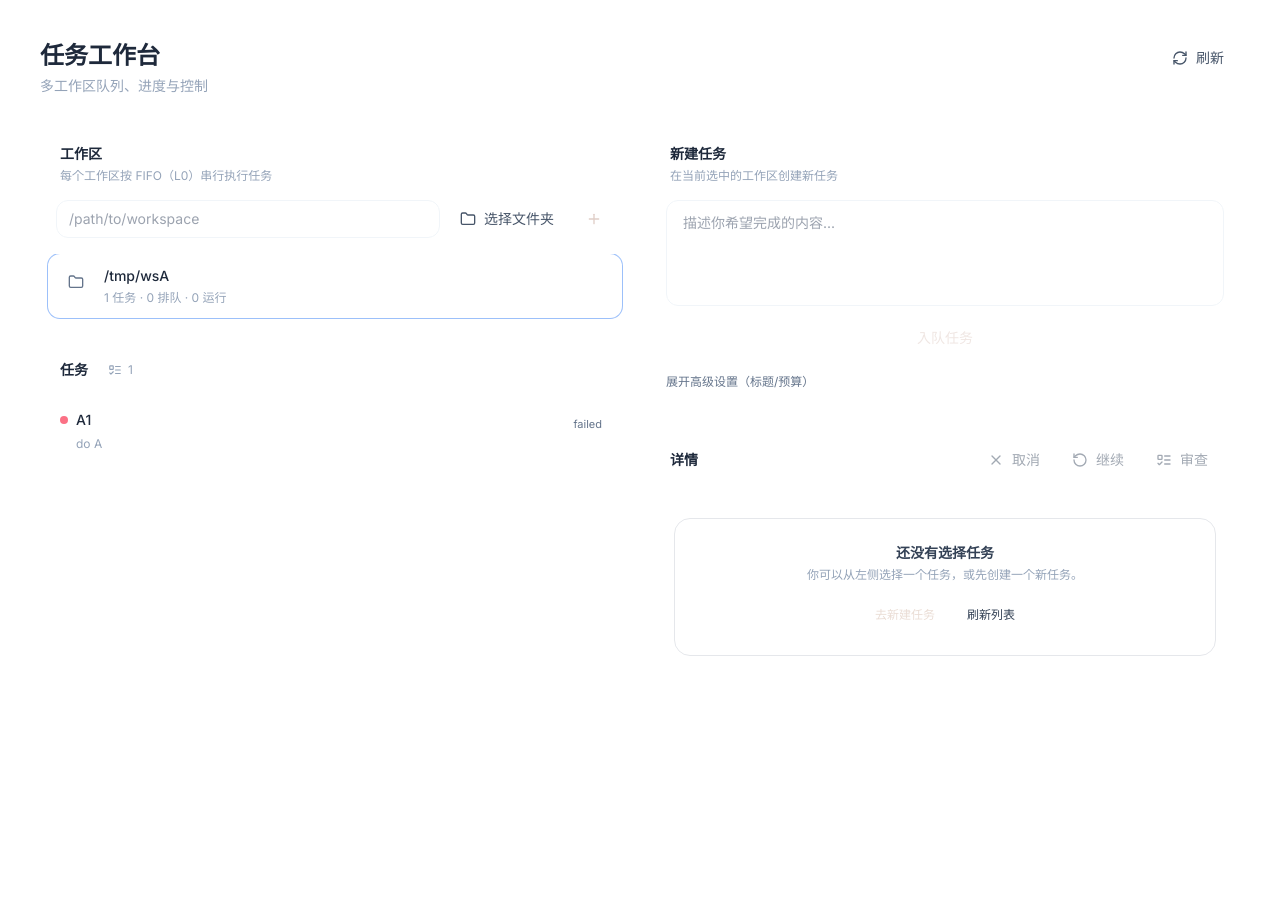
opens a modal to preview artifact content from advanced tab
The image size is (1280, 900).
Step 1. Click the button with test id "workbench-task-item" → x=64, y=420, box [48,398,622,464]
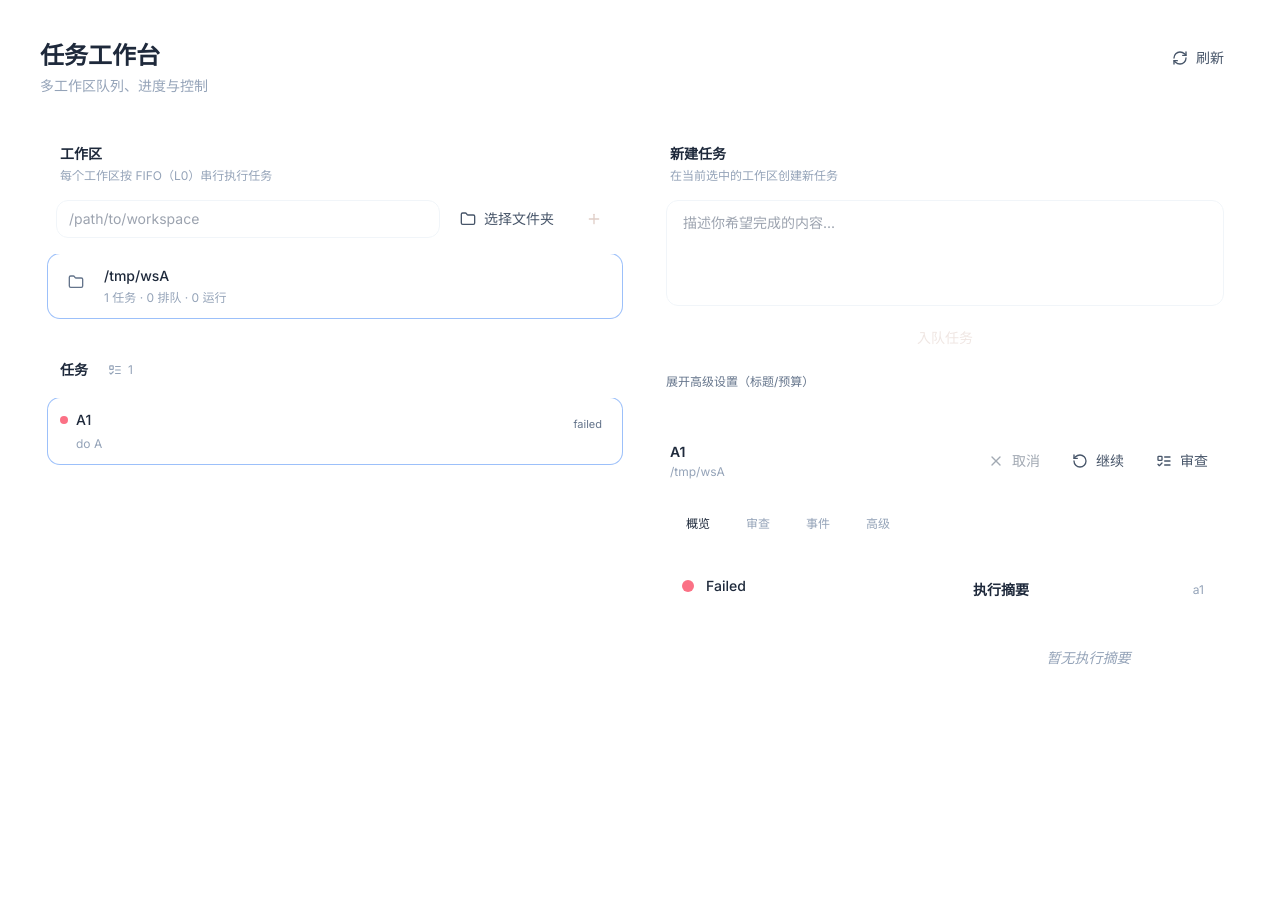
Step 2. Click the button with test id "workbench-details-advanced-toggle" → x=878, y=524, box [850,508,906,540]
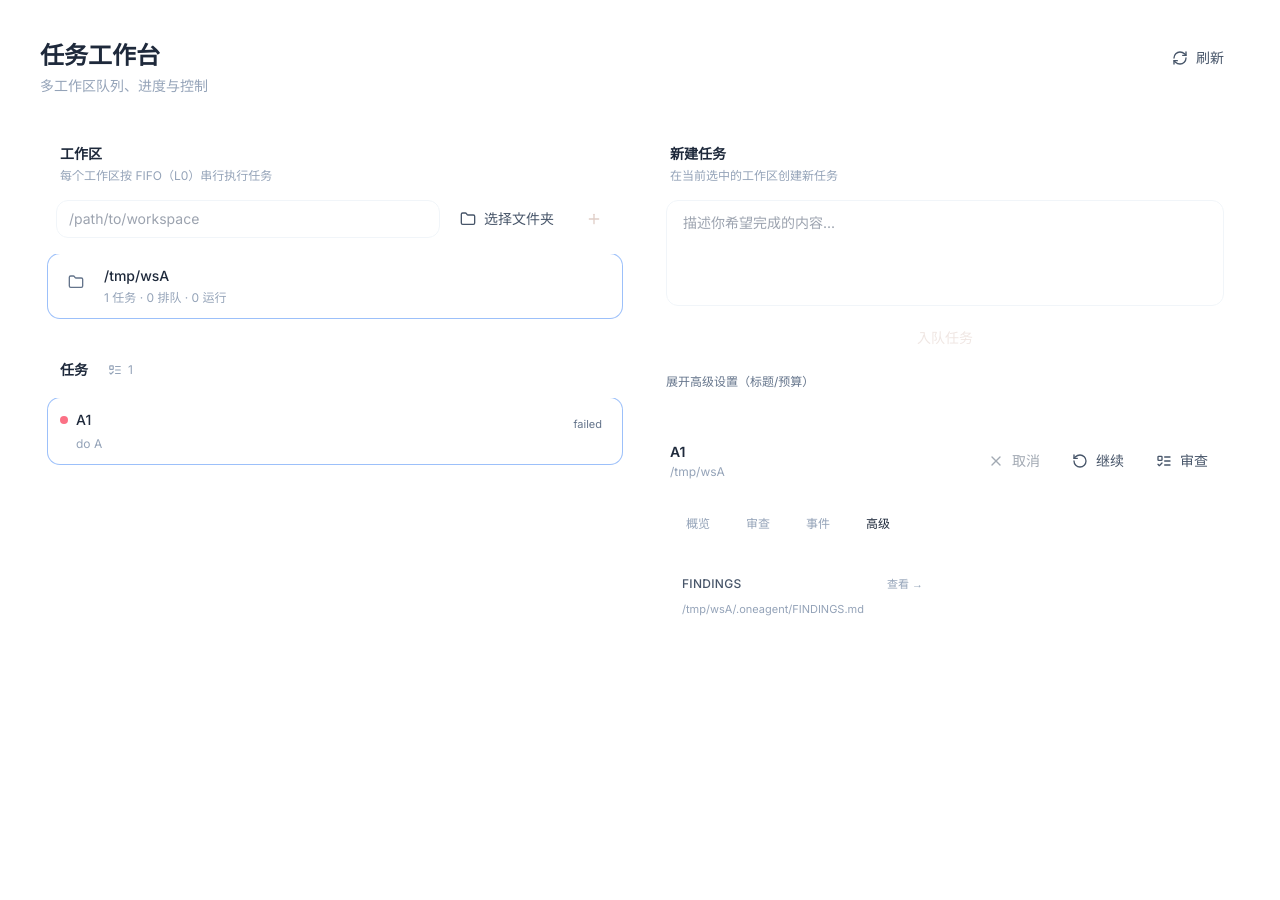
Step 3. Click the button with test id "artifact-card-findings" → x=712, y=584, box [666,560,939,633]
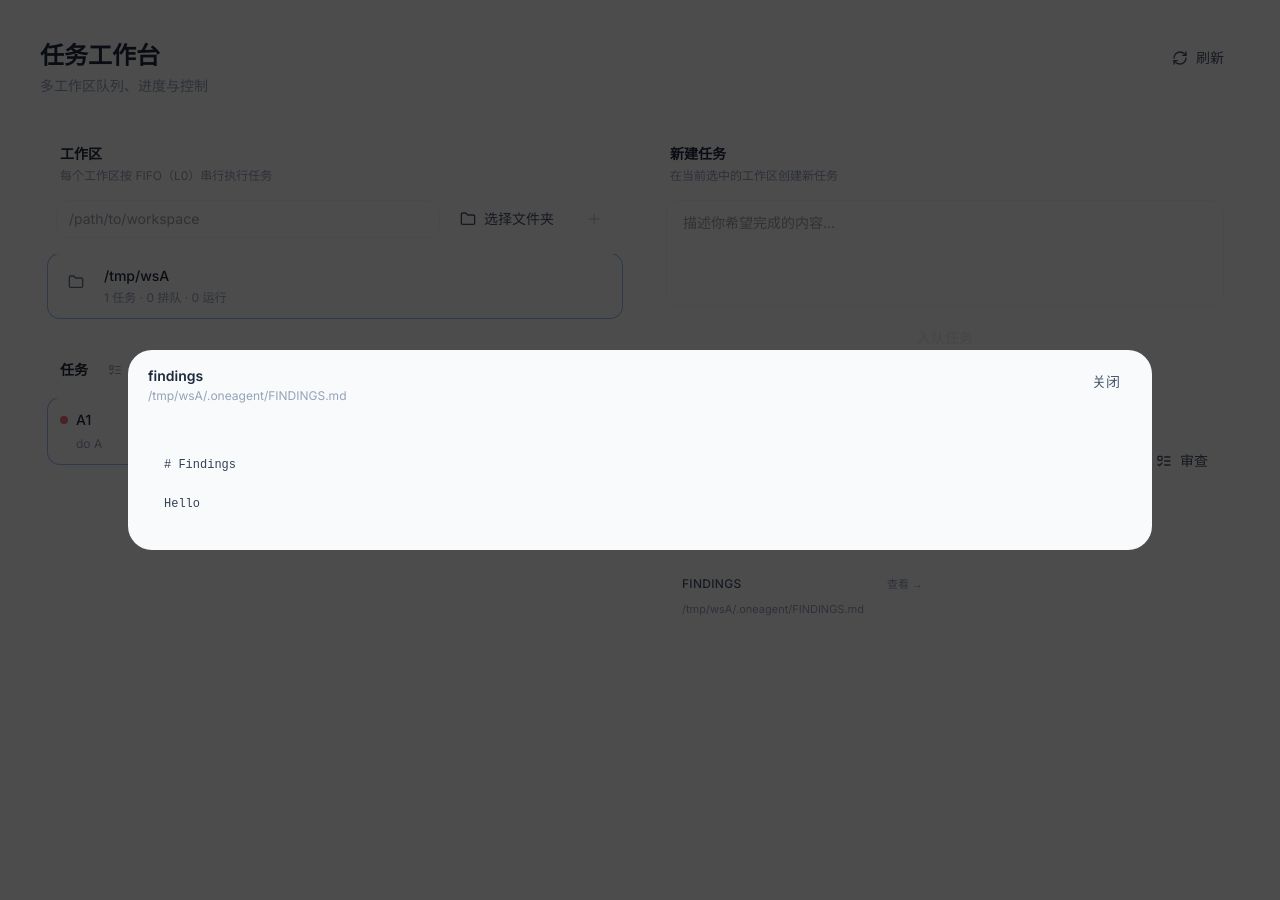
Expected: the element with test id "artifact-modal" is shown
Expected: the text "# Findings" is shown, [164,458,236,511]
